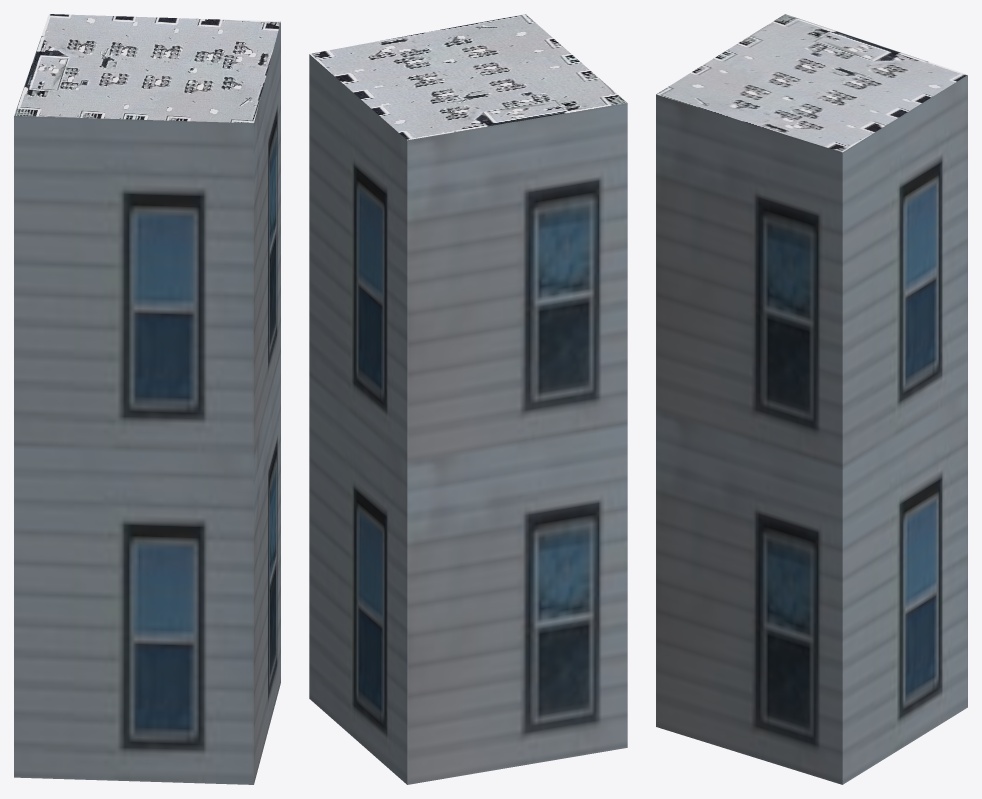
The model's file is ResTex__1139.fbx.
3 renders of one model, left to right at view 1: azimuth 30°, elevation 25°; view 2: azimuth 150°, elevation 25°; view 3: azimuth 270°, elevation 25°, orthographic. The views are drawn at different scales.
Parts seen in each view (by area): view 1: CityEngineMaterial_18_m, CityEngineMaterial_8_m; view 2: CityEngineMaterial_18_m, CityEngineMaterial_8_m; view 3: CityEngineMaterial_18_m, CityEngineMaterial_8_m.
Boxes of the visible parts, box(x1,y1,x2,y2) form: CityEngineMaterial_18_m: box(14, 22, 280, 784); CityEngineMaterial_8_m: box(14, 14, 280, 123); CityEngineMaterial_18_m: box(309, 54, 627, 784); CityEngineMaterial_8_m: box(309, 14, 626, 140); CityEngineMaterial_18_m: box(656, 75, 967, 784); CityEngineMaterial_8_m: box(656, 14, 967, 152).
Bounding box in the file's own units: 2.82 × 6 × 2.68.
2 materials, 2 textured.
